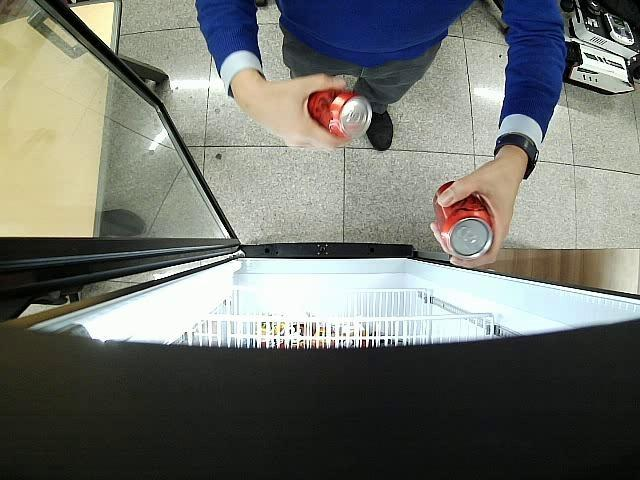11_cocaColaZero: (434, 181, 494, 260), (308, 91, 372, 140)
